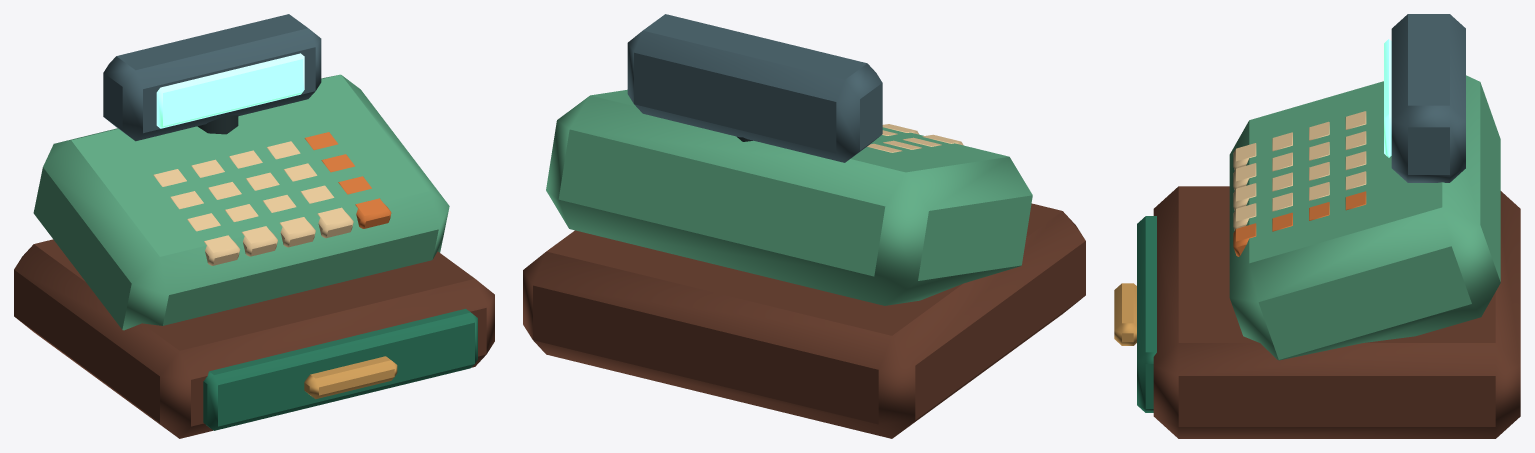
Rendered from cash_register.glb.
The picture shows the model from 3 angles, left to right: view 1: azimuth 30°, elevation 25°; view 2: azimuth 150°, elevation 25°; view 3: azimuth 270°, elevation 25°; orthographic projection. The views are drawn at different scales.
Visible parts, largest first — view 1: Register; view 2: Register; view 3: Register.
Part boxes in pixels (x1=…): Register: x1=14, y1=14, x2=494, y2=438; Register: x1=523, y1=14, x2=1085, y2=438; Register: x1=1114, y1=14, x2=1520, y2=438.
Size of the model in its own units: 0.39 by 0.3075 by 0.3765.
